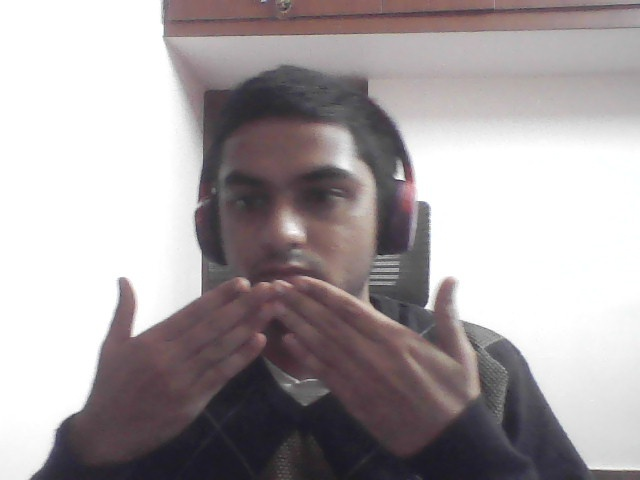Thank You: (73, 261, 506, 453)
